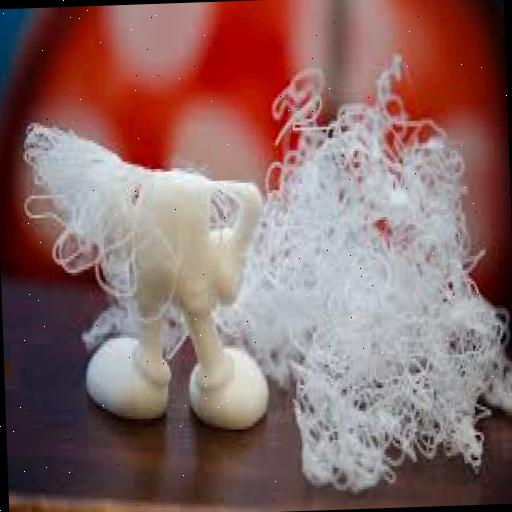spaghetti: (199, 56, 509, 474), (0, 118, 161, 308)
